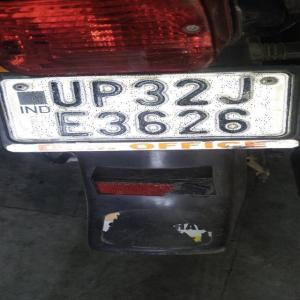Plate: (32, 74, 271, 138)
